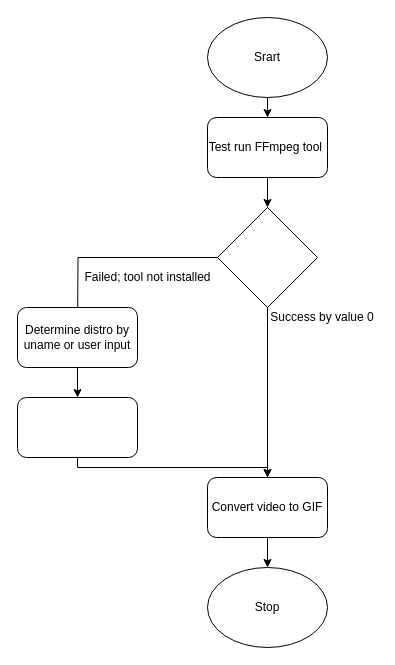
The diagram is 395 pixels wide and 665 high, and some of its shapes have lost their labels. Each missing label, with the box of its shape:
Check cp status: (216, 206, 318, 308)
Install app debend on packacge manger: (16, 396, 138, 458)
